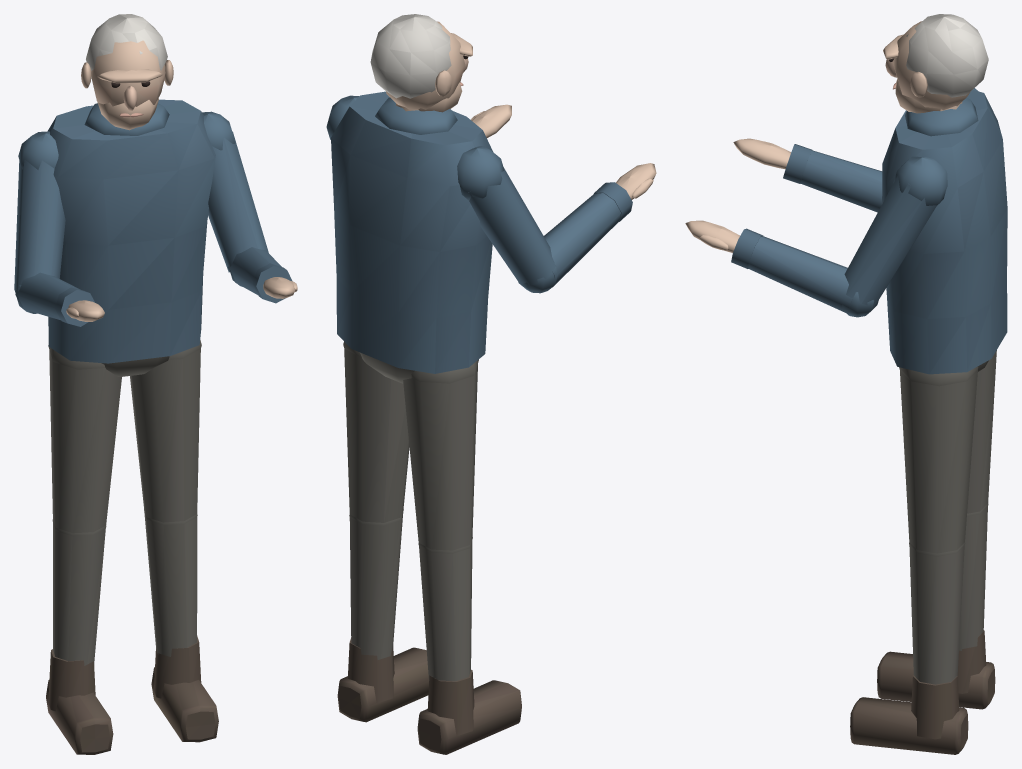
The model's file is crowd_stand_a_c.glb.
3 views of the same model, side by side, from view 1: azimuth 30°, elevation 25°; view 2: azimuth 150°, elevation 25°; view 3: azimuth 270°, elevation 25° (orthographic).
Parts seen in each view (by area): view 1: body; view 2: body; view 3: body.
Boxes of the visible parts, left/top/right/bottom form: body: left=14, top=14, right=297, bottom=754; body: left=326, top=14, right=656, bottom=754; body: left=685, top=14, right=1007, bottom=754.
Size of the model in its own units: 0.6168 by 1.7 by 0.7002.
